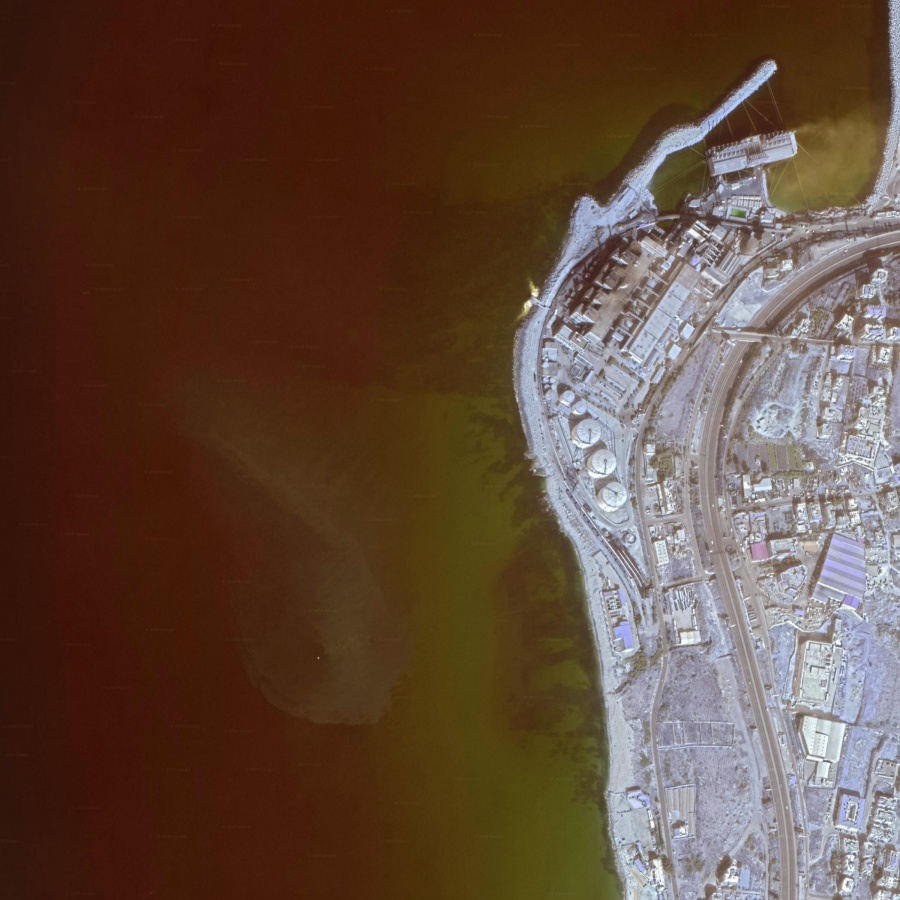PowerPlant: (505, 118, 801, 516)
